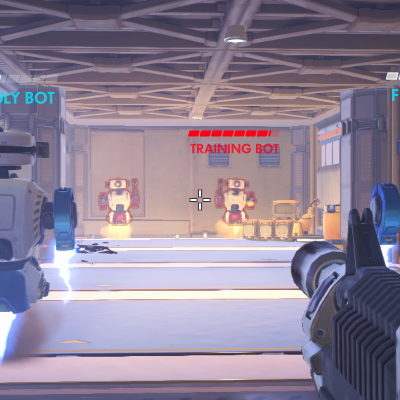hpbar: (188, 130, 279, 137)
